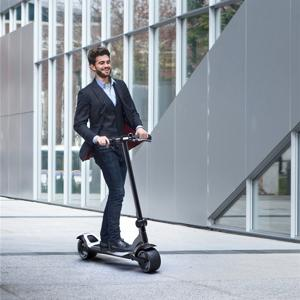human on a scooter: (73, 46, 162, 275)
